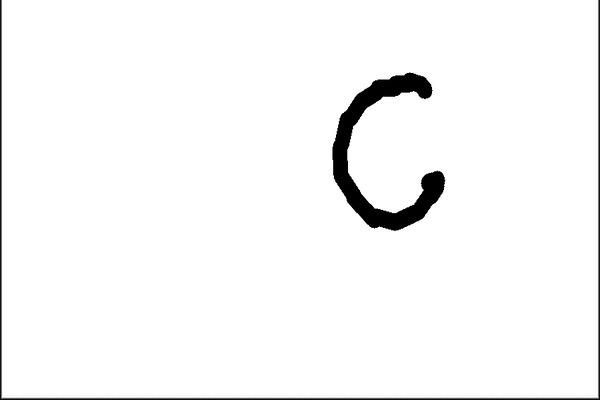C: (327, 67, 448, 234)
